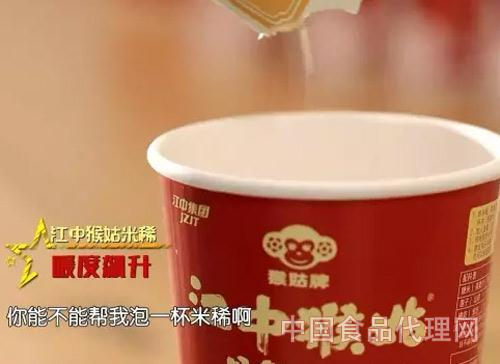cup: (155, 108, 500, 359)
